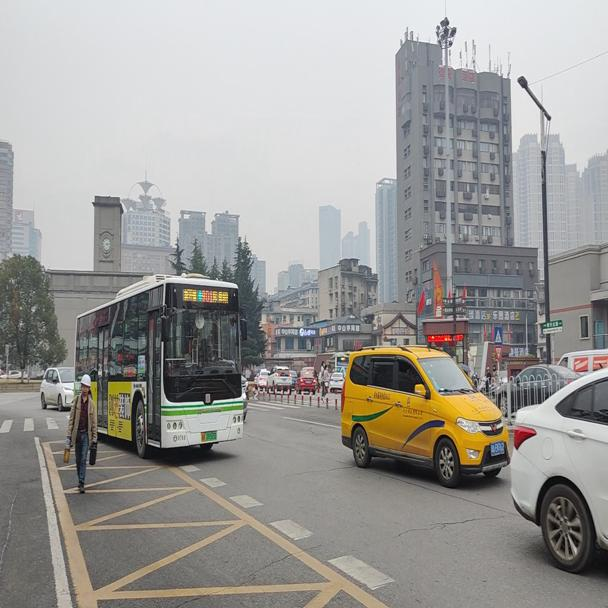bus: (73, 271, 248, 457)
screen: (201, 289, 212, 301)
